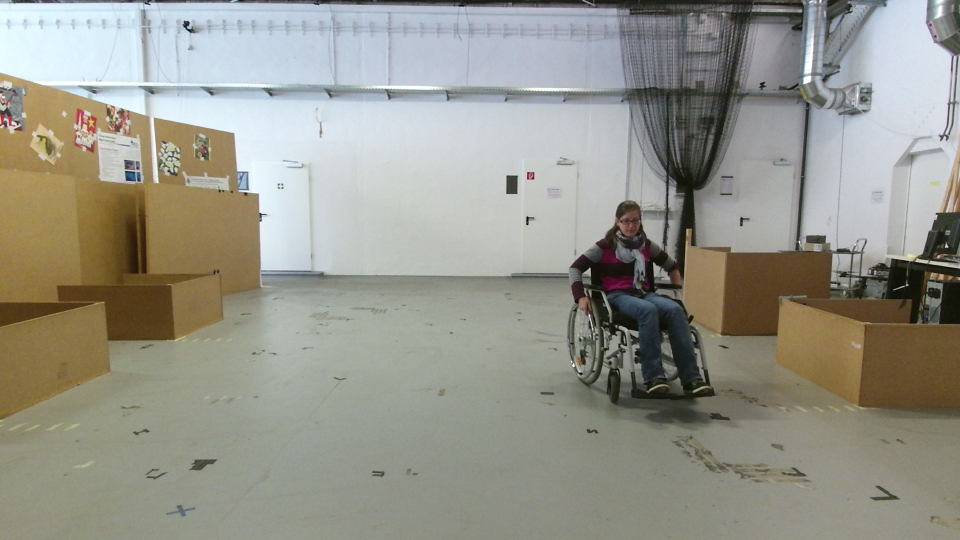wheelchair: (557, 196, 719, 407)
